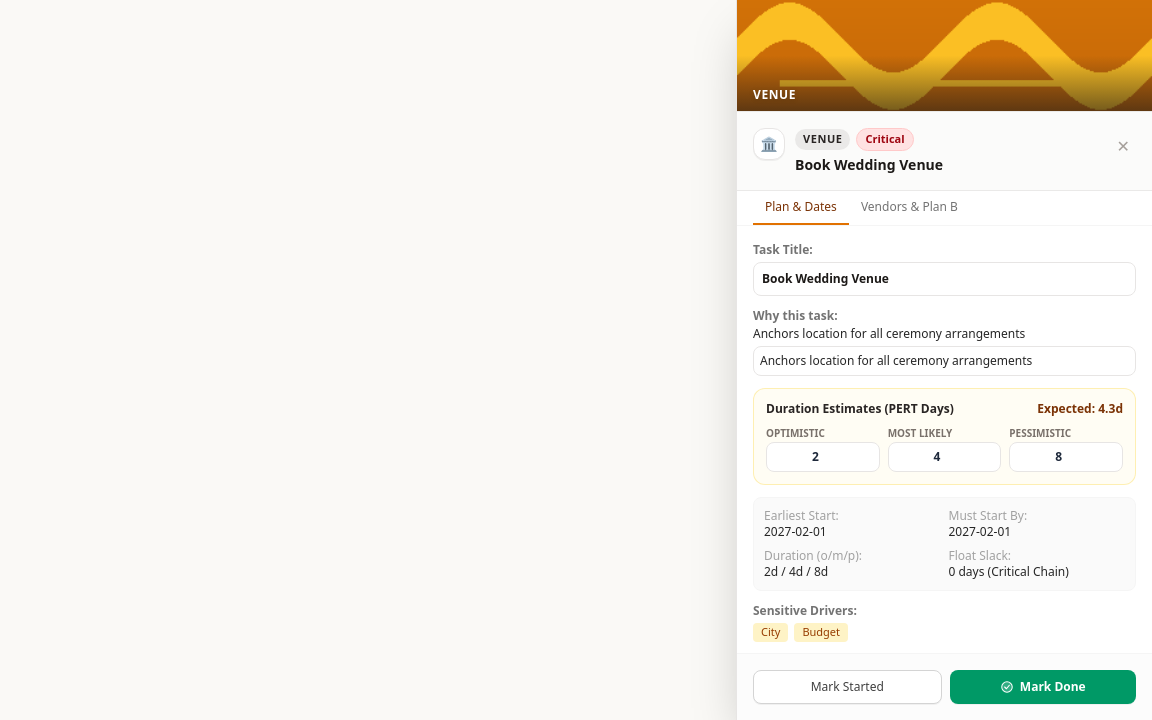
Test case: NodeInspector component (AC7, AC19, AC29) › switches to Vendors tab and displays vendor need context (AC19)
Click the button "Vendors & Plan B": (909, 208) [849,191,970,225]
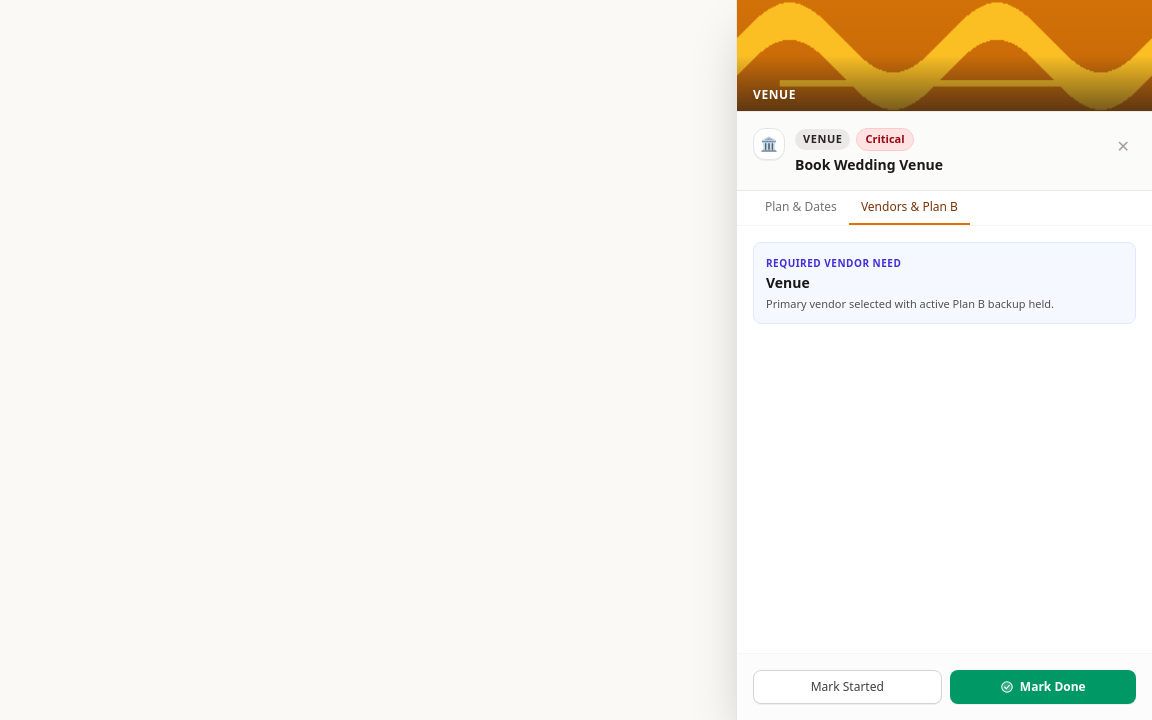
Expected: the 1st text "venue" is shown, [753,87,796,103]
Expected: the text "Required Vendor Need" is shown, [766,256,901,270]
